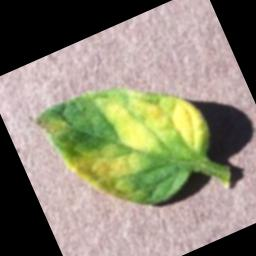Leaf_Mold: (36, 52, 229, 234)
